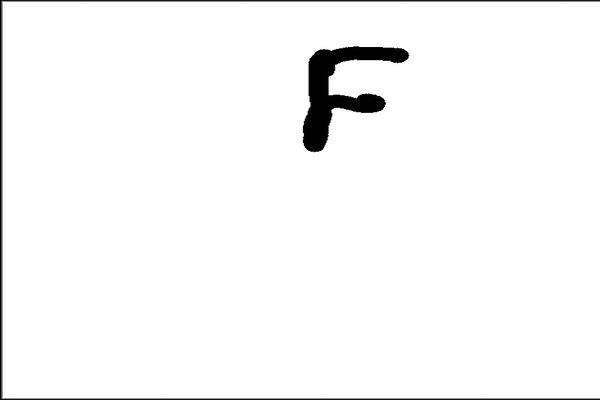F: (295, 40, 412, 154)
